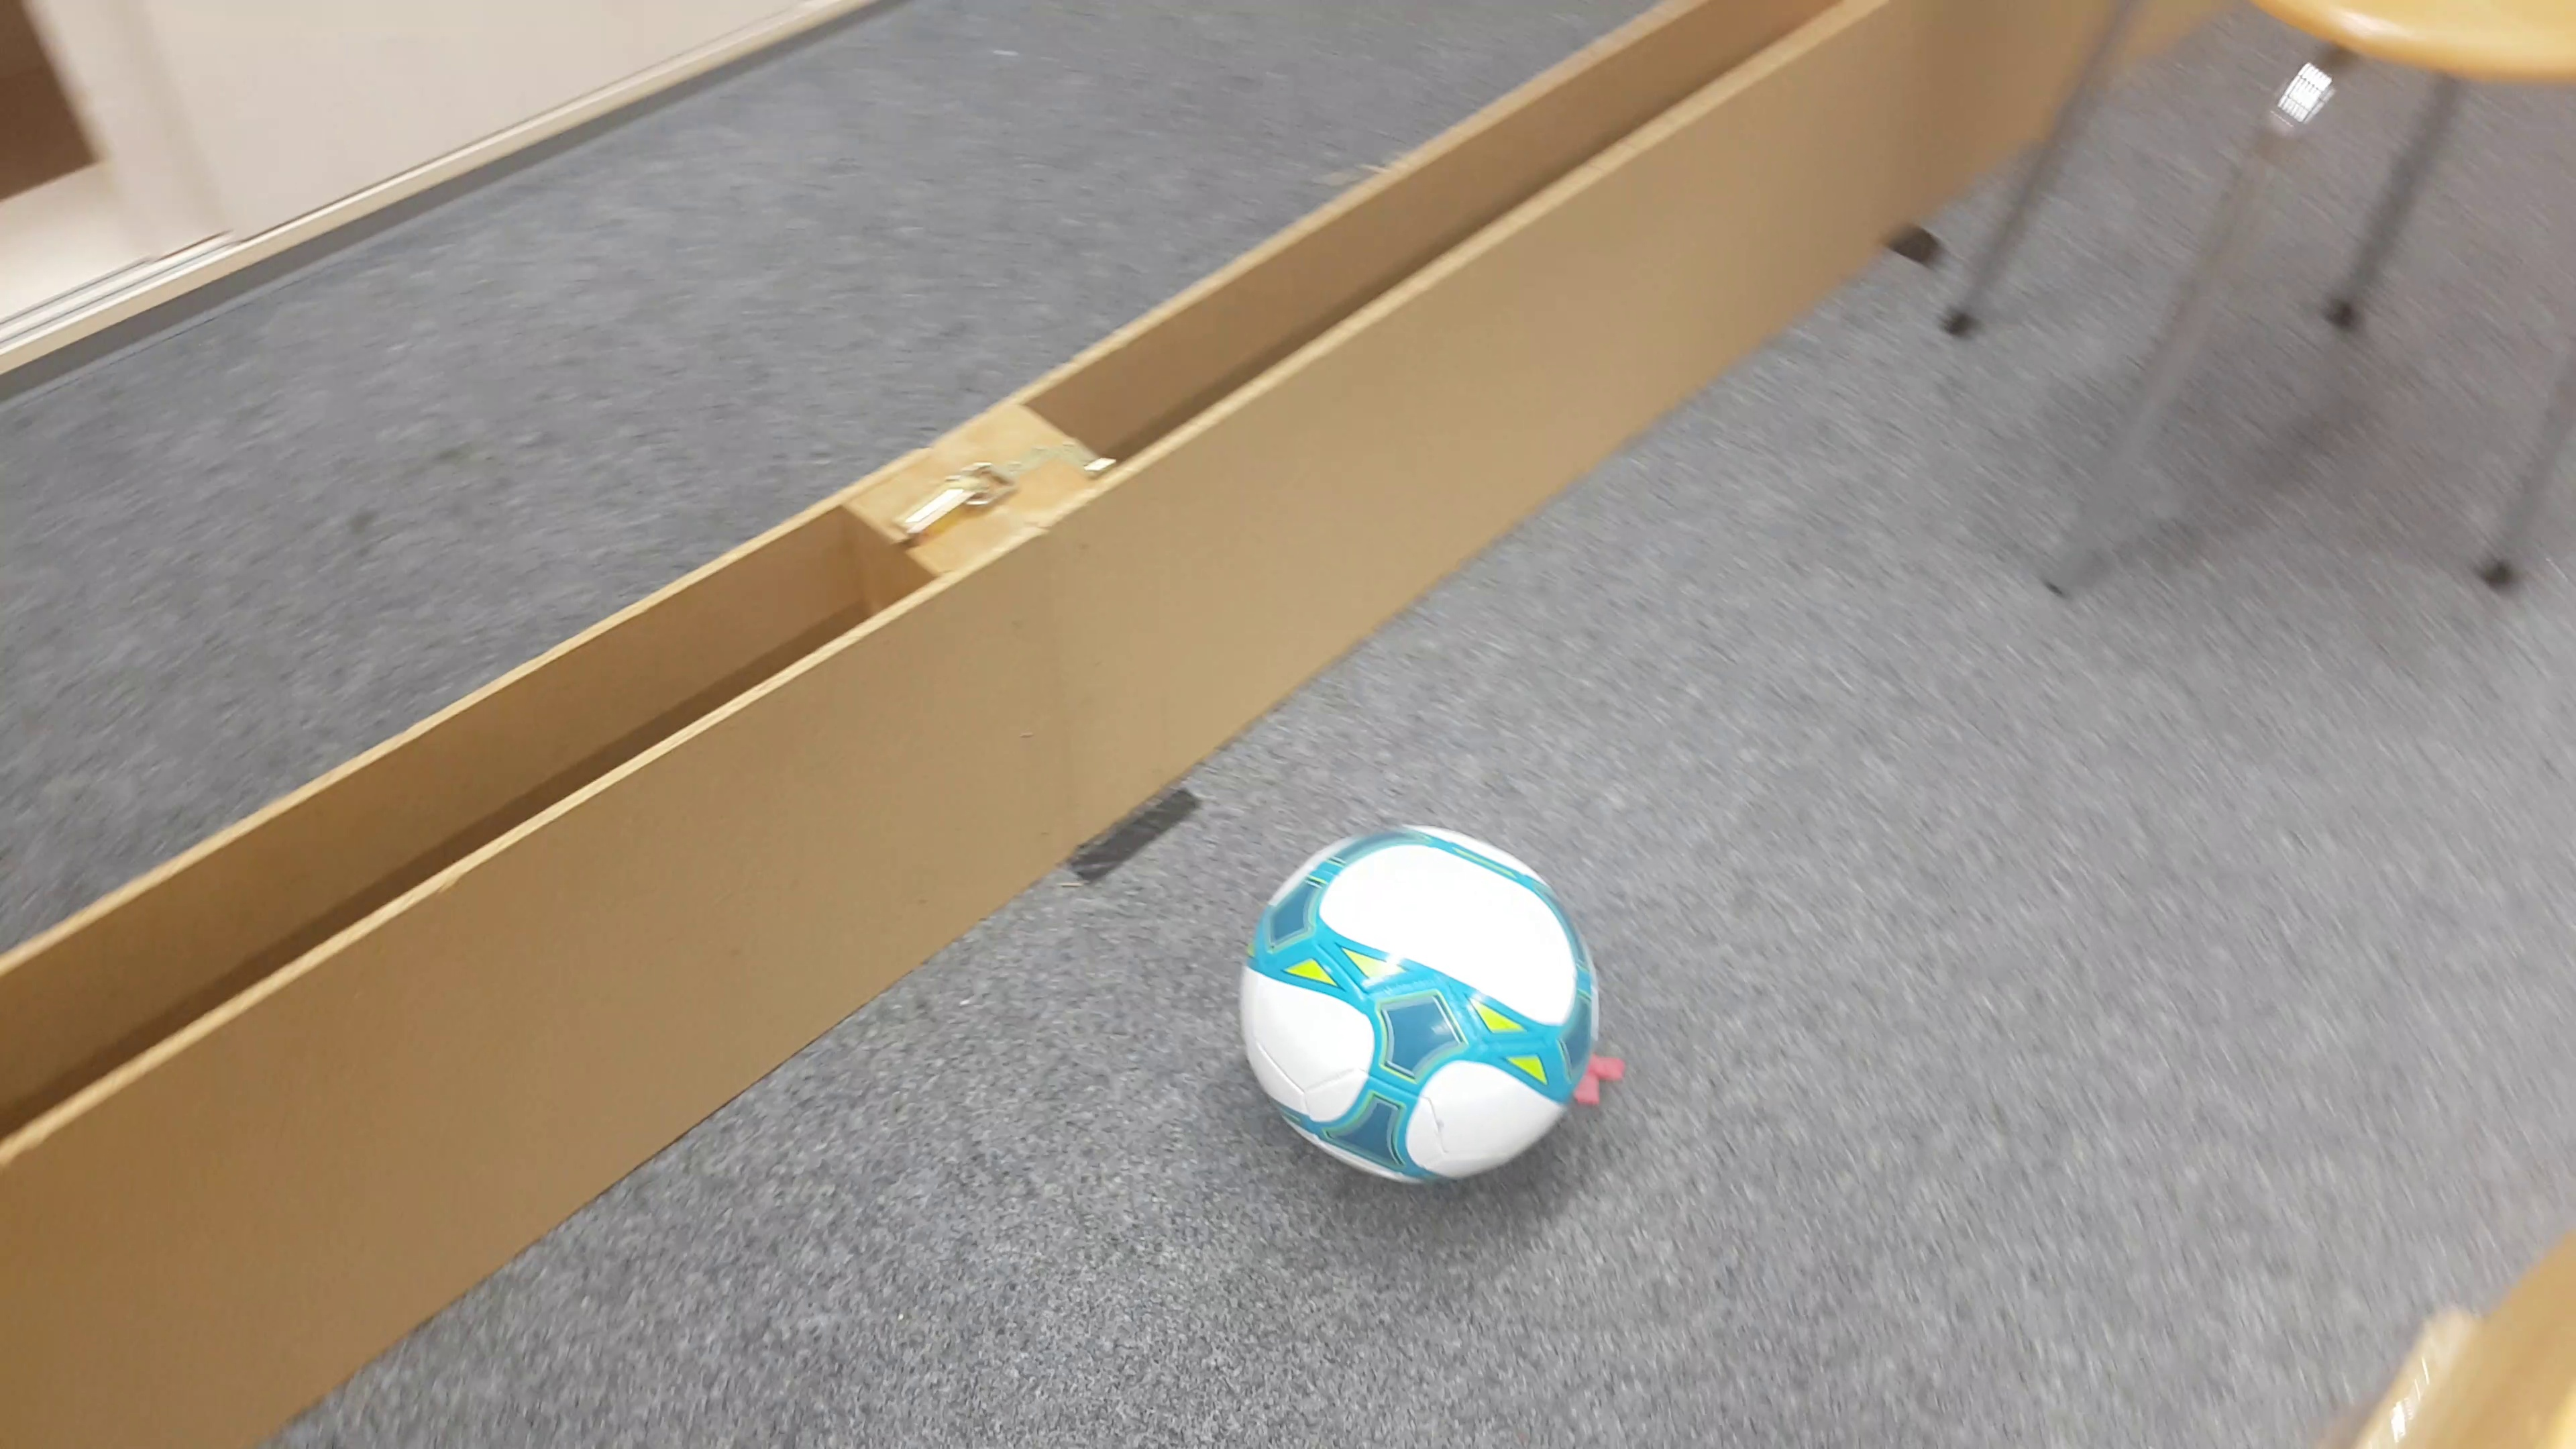kick: (1244, 821, 1601, 1177)
